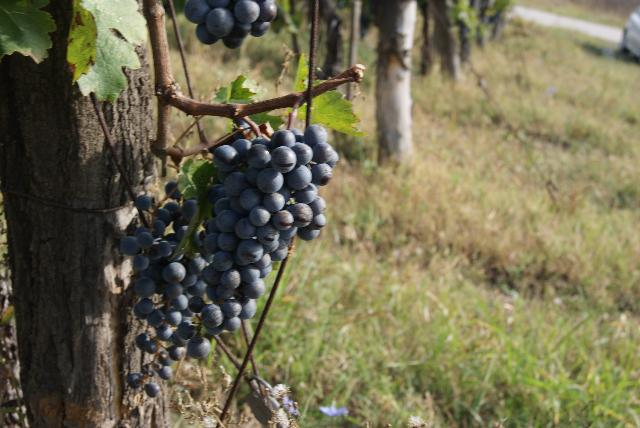grapes: (188, 125, 339, 335)
